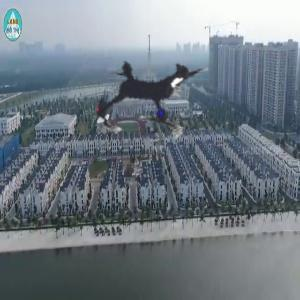drone: (60, 10, 239, 189)
